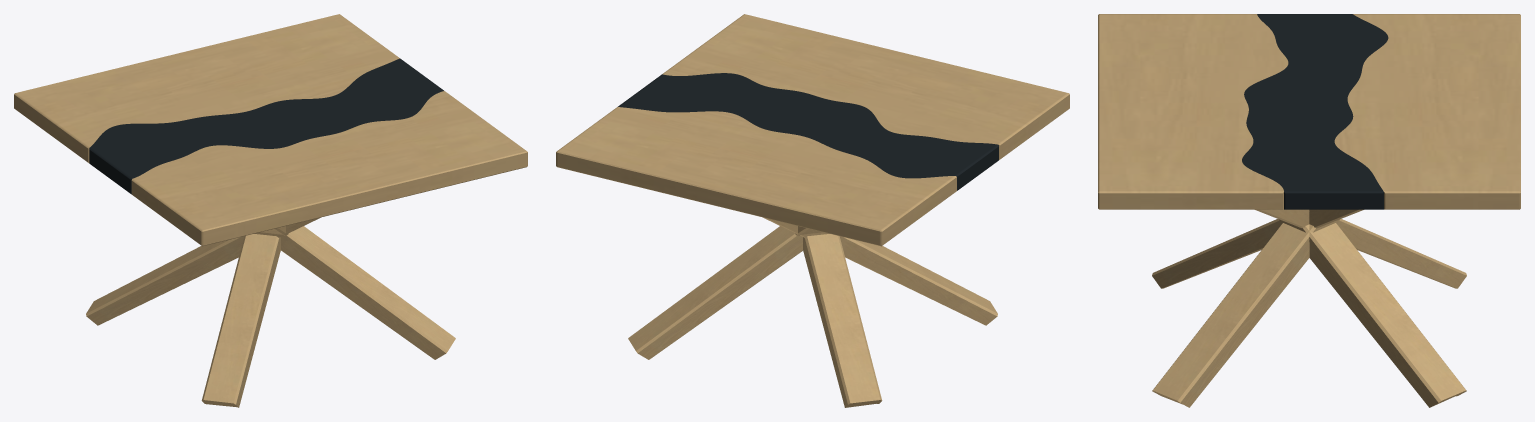
Rendered from square-beech-epoxy-black.glb.
The picture shows the model from 3 angles, left to right: view 1: azimuth 30°, elevation 25°; view 2: azimuth 150°, elevation 25°; view 3: azimuth 270°, elevation 25°; orthographic projection. The views are drawn at different scales.
Visible parts, largest first — view 1: Wood_Square_EpoxyFar, Wood_Square_EpoxyNear, Base_Square, Resin_Square; view 2: Wood_Square_EpoxyNear, Wood_Square_EpoxyFar, Base_Square, Resin_Square; view 3: Wood_Square_EpoxyFar, Wood_Square_EpoxyNear, Base_Square, Resin_Square.
Part boxes in pixels (x1,y1,x2,y2): Wood_Square_EpoxyFar: [131, 91, 527, 246]; Wood_Square_EpoxyNear: [14, 14, 399, 162]; Base_Square: [86, 217, 455, 407]; Resin_Square: [89, 58, 443, 194]; Wood_Square_EpoxyNear: [556, 107, 956, 246]; Wood_Square_EpoxyFar: [662, 14, 1069, 159]; Base_Square: [628, 217, 997, 407]; Resin_Square: [618, 73, 998, 190]; Wood_Square_EpoxyFar: [1098, 14, 1288, 209]; Wood_Square_EpoxyNear: [1334, 14, 1520, 209]; Base_Square: [1152, 209, 1466, 407]; Resin_Square: [1242, 14, 1388, 209].
Size of the model in its own units: 1.22 by 0.762 by 1.22.
Materials: 2 (1 with a texture image).
